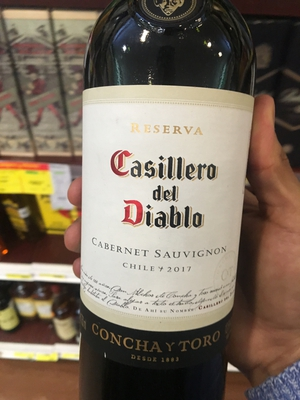casillero del diablo cabernet sauvignon: (70, 11, 256, 400)
